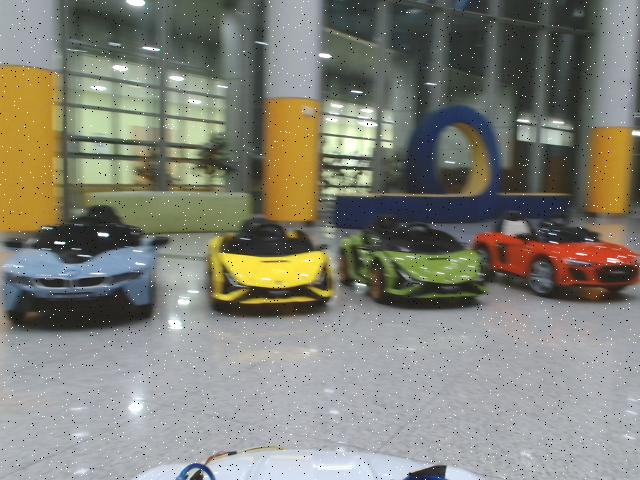car: (1, 205, 169, 324), (471, 210, 640, 296), (339, 214, 485, 303), (205, 215, 335, 311)
